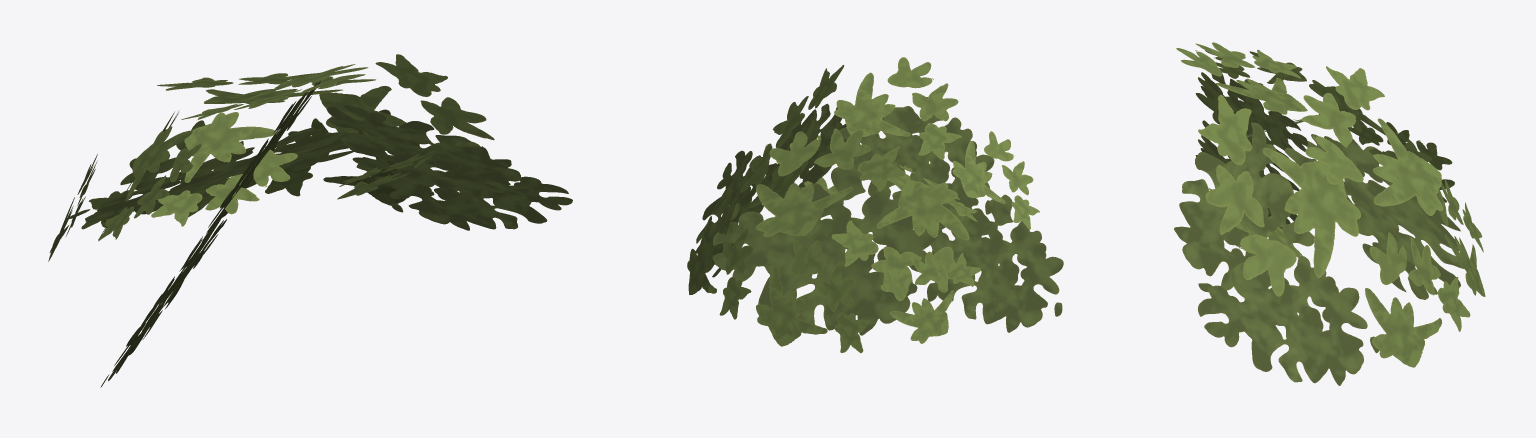
File: shrub_small_01.fbx
The picture shows the model from 3 angles, left to right: view 1: azimuth 30°, elevation 25°; view 2: azimuth 150°, elevation 25°; view 3: azimuth 270°, elevation 25°; orthographic projection. The views are drawn at different scales.
Parts seen in each view (by area): view 1: shrub_small_01; view 2: shrub_small_01; view 3: shrub_small_01.
Part boxes in pixels (bbox=[...]): shrub_small_01: bbox=[48, 54, 572, 387]; shrub_small_01: bbox=[687, 57, 1063, 353]; shrub_small_01: bbox=[1174, 42, 1485, 385].
Bounding box in the file's own units: 544 × 370 × 388.
1 material, 1 textured.
